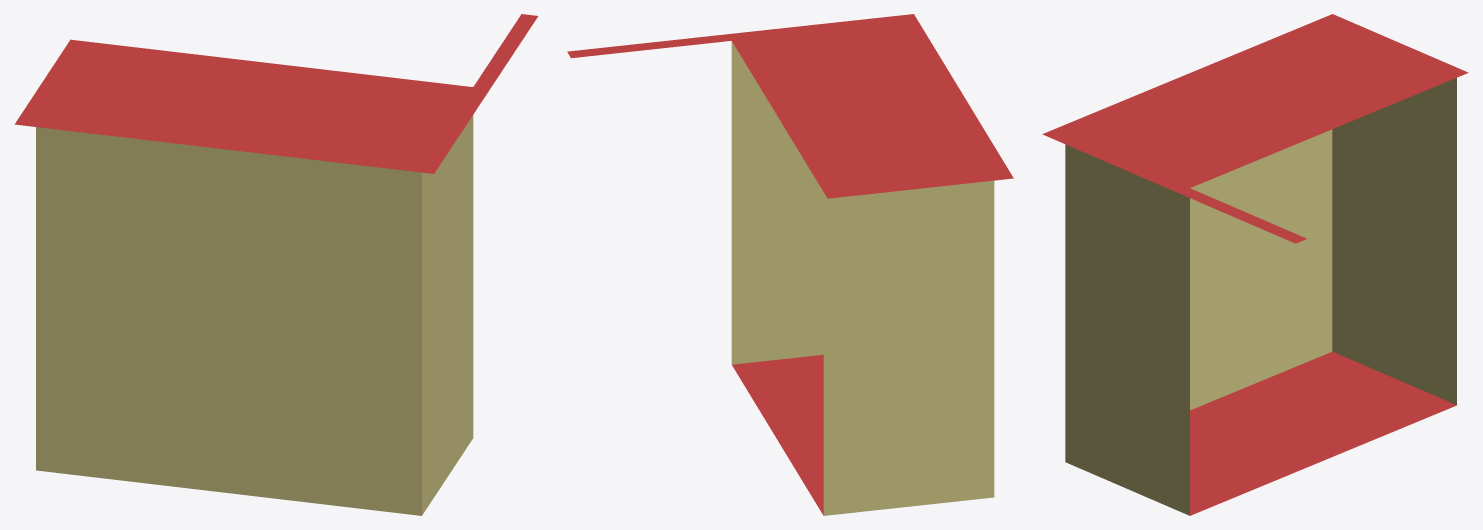
3 views of the same model, side by side, from view 1: azimuth 30°, elevation 25°; view 2: azimuth 150°, elevation 25°; view 3: azimuth 270°, elevation 25° (orthographic). The views are drawn at different scales.
Size of the model in its own units: 8.29 by 6.51 by 5.52.
